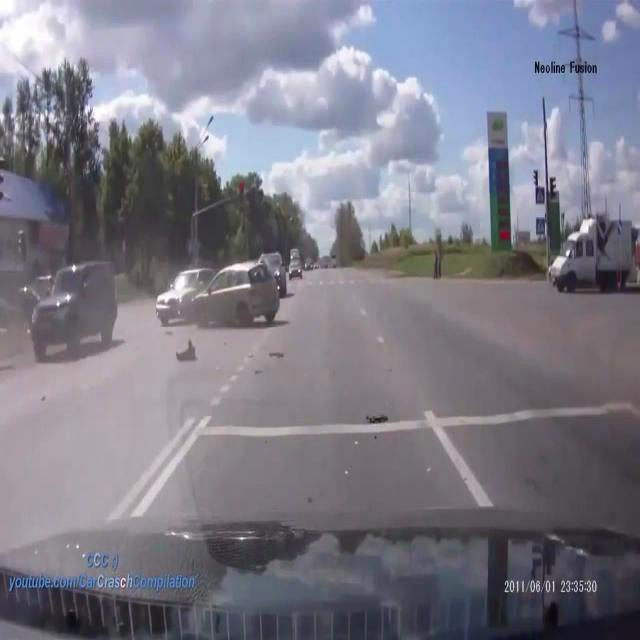moderate: (154, 261, 280, 332)
